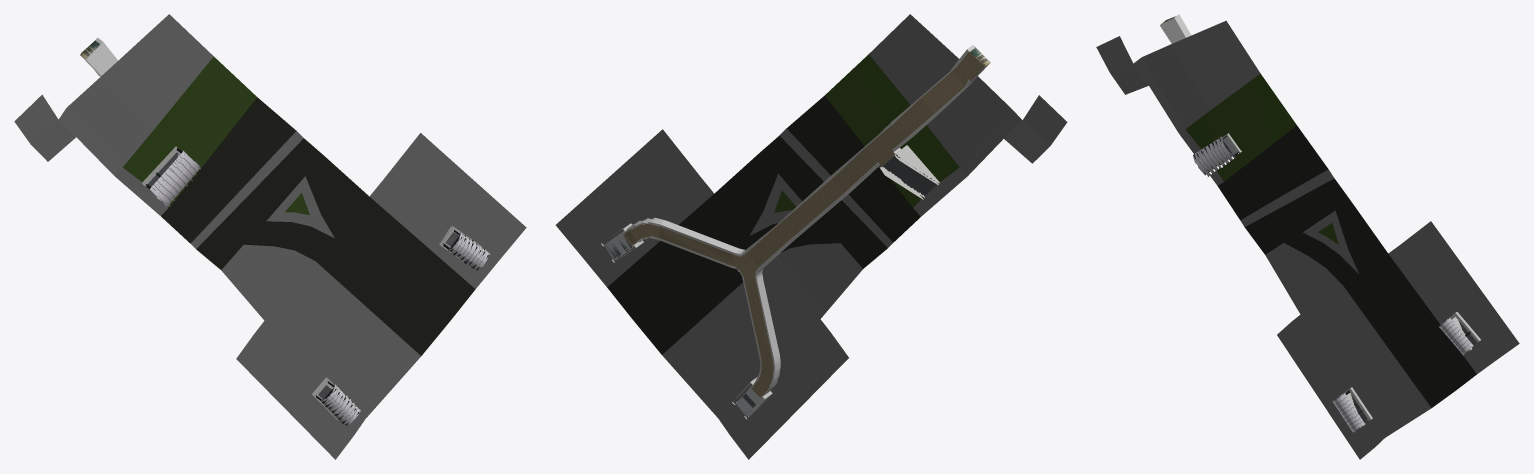
Rendered from Rannamae_tee_1_2-origo.obj.
3 views of the same model, side by side, from view 1: azimuth 30°, elevation 25°; view 2: azimuth 150°, elevation 25°; view 3: azimuth 330°, elevation 25° (orthographic). The views are drawn at different scales.
Visible parts, largest first — view 1: maapind, Rannamae_tee_1_2; view 2: maapind, Rannamae_tee_1_2; view 3: maapind, Rannamae_tee_1_2.
Boxes of the visible parts, x1,y1,x2,y2 form: maapind: (14,14,526,459); Rannamae_tee_1_2: (80,37,489,426); maapind: (555,14,1067,459); Rannamae_tee_1_2: (601,45,990,419); maapind: (1096,20,1519,459); Rannamae_tee_1_2: (1160,14,1480,432).
Size of the model in its own units: 119 by 108 by 9.7.
